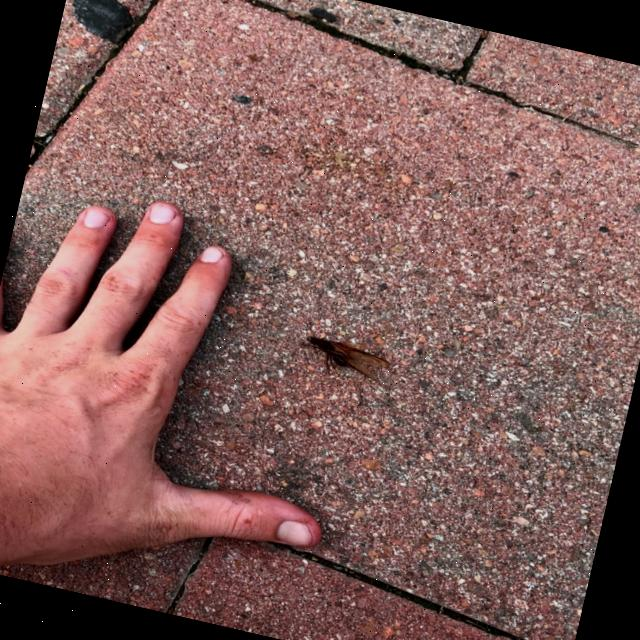Alive-Female-Alate: (298, 334, 392, 386)
